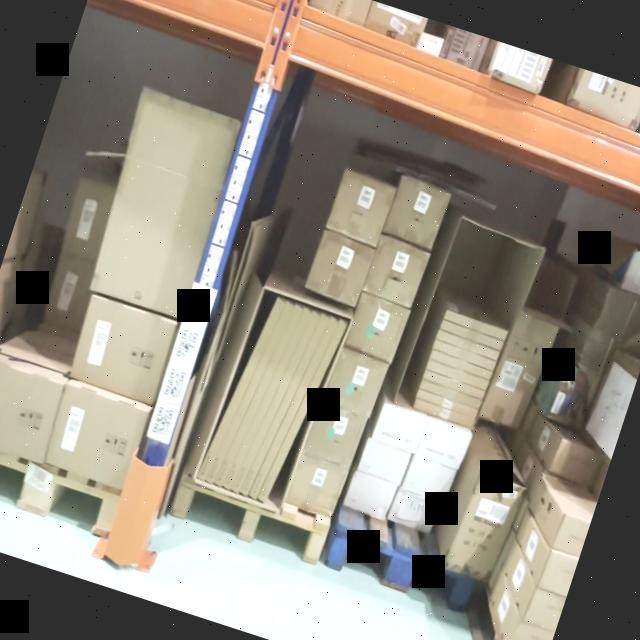box: (90, 92, 241, 320), (70, 295, 175, 401), (46, 386, 146, 487), (443, 475, 524, 582), (0, 367, 65, 462), (306, 230, 376, 310), (327, 172, 396, 248), (383, 176, 451, 249), (363, 236, 429, 308), (323, 348, 388, 418), (345, 293, 409, 363), (303, 403, 367, 470), (286, 455, 347, 517), (372, 404, 428, 453), (415, 421, 470, 470), (357, 439, 411, 486), (387, 487, 439, 535), (401, 459, 455, 504), (344, 474, 396, 520), (444, 310, 508, 341), (432, 340, 496, 371), (440, 321, 504, 351), (436, 331, 500, 361), (429, 350, 493, 380), (426, 361, 489, 390), (419, 381, 481, 410), (422, 371, 485, 399), (416, 391, 478, 419), (413, 400, 474, 428)
